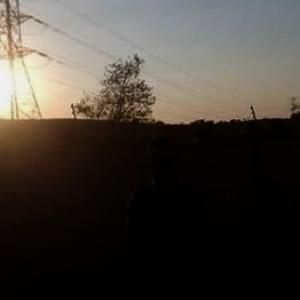follow: (125, 129, 205, 299)
